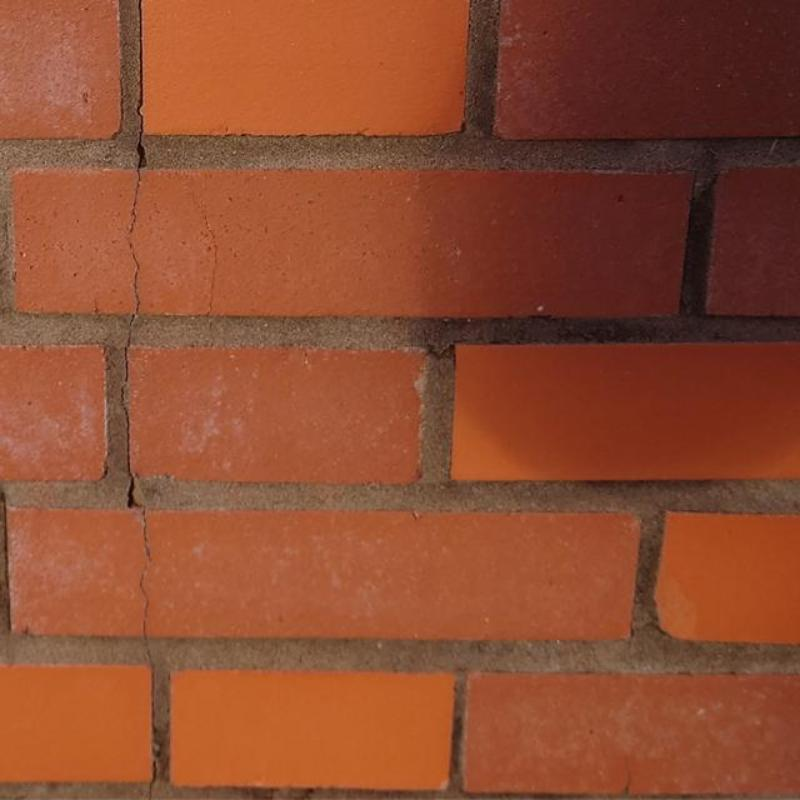crack: (118, 0, 159, 799), (204, 211, 219, 315)
